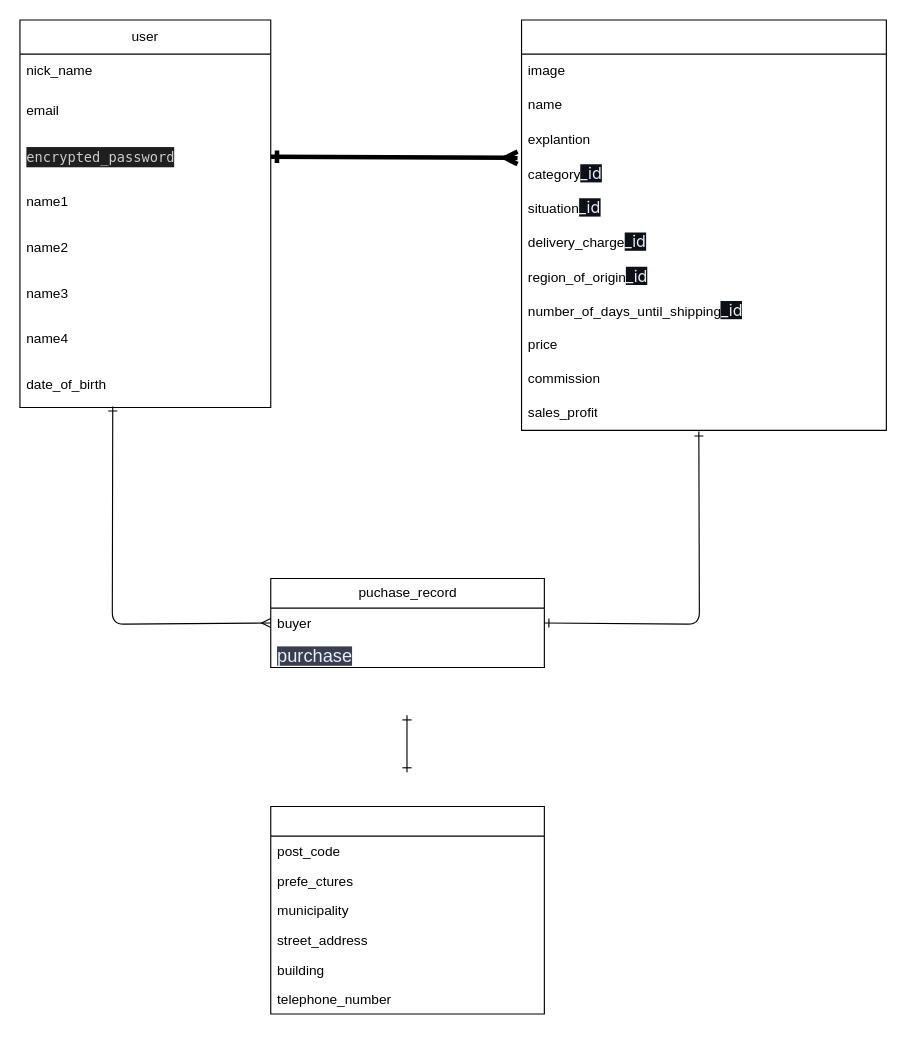
The diagram is 906 pixels wide and 1037 high, and some of its shapes have lost their labels. Here are the shapes that lost their labels. From the top down, the box of each, then its label:
(520, 19, 886, 430): items
(270, 805, 544, 1014): shipping_informaiton
